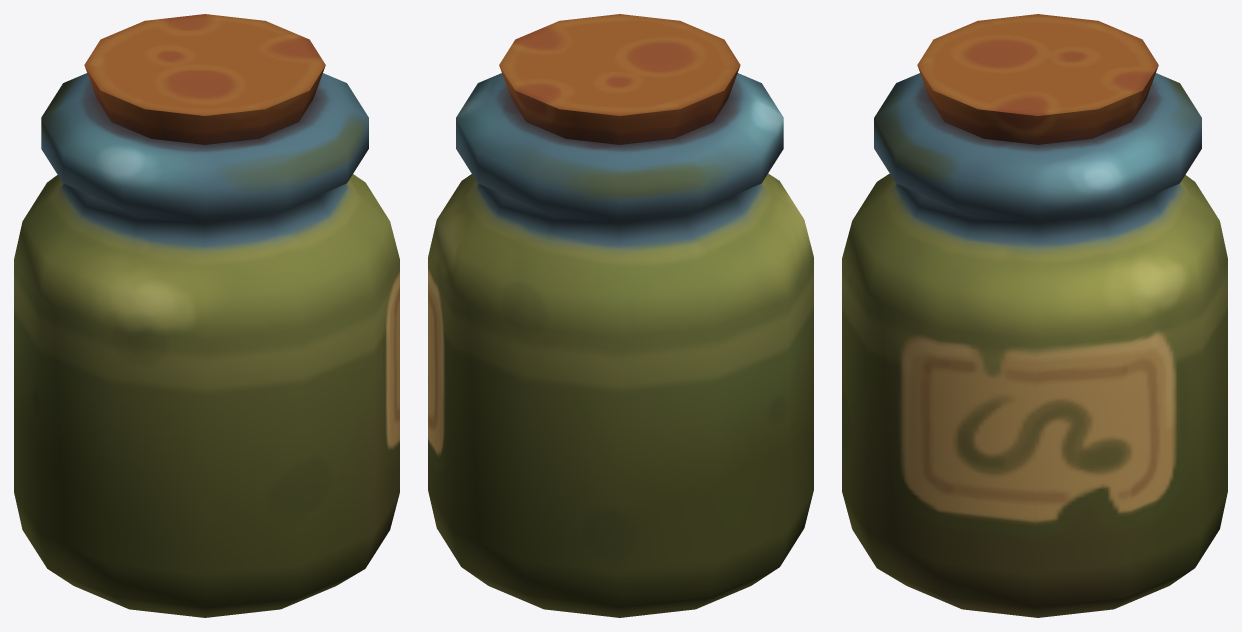
Rendered from potion02.fbx.
3 renders of one model, left to right at view 1: azimuth 30°, elevation 25°; view 2: azimuth 150°, elevation 25°; view 3: azimuth 270°, elevation 25°, orthographic.
Parts seen in each view (by area): view 1: potion02; view 2: potion02; view 3: potion02.
Part boxes in pixels (x1=…): potion02: x1=14, y1=14, x2=399, y2=617; potion02: x1=428, y1=14, x2=813, y2=617; potion02: x1=842, y1=14, x2=1227, y2=617.
Size of the model in its own units: 28.72 by 40.16 by 28.72.
